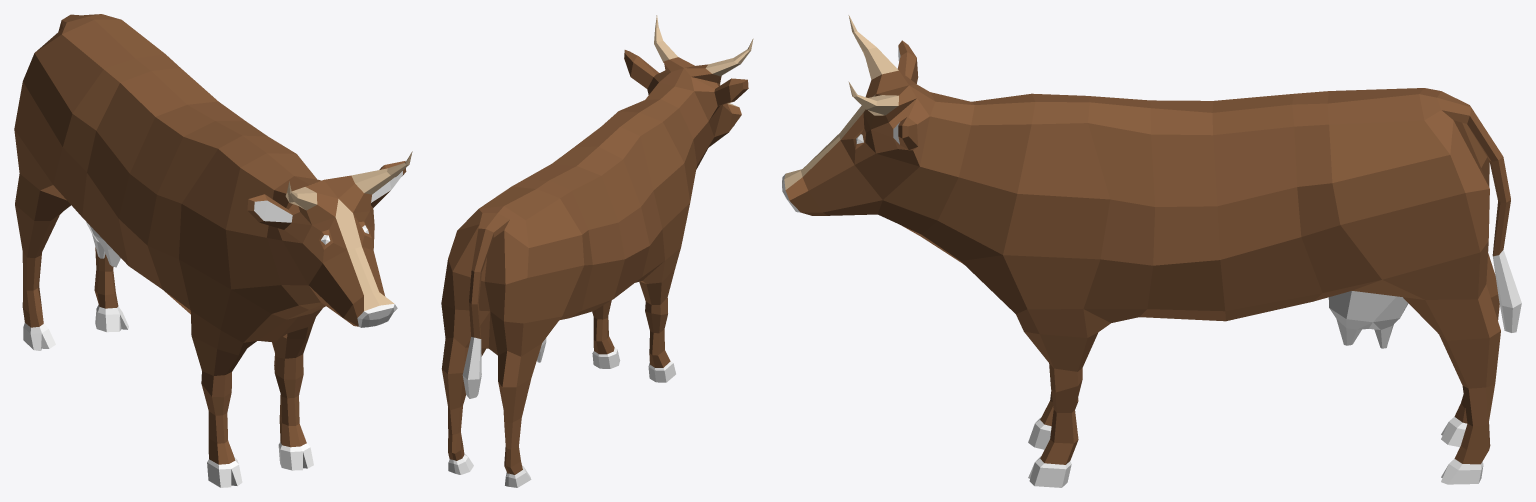
Rendered from cow.glb.
3 views of the same model, side by side, from view 1: azimuth 30°, elevation 25°; view 2: azimuth 150°, elevation 25°; view 3: azimuth 270°, elevation 25° (orthographic). The views are drawn at different scales.
Visible parts, largest first — view 1: cow; view 2: cow; view 3: cow.
Boxes of the visible parts, x1,y1,x2,y2 form: cow: [14, 14, 412, 487]; cow: [441, 15, 753, 487]; cow: [782, 15, 1521, 487].
Size of the model in its own units: 0.8096 by 1.82 by 2.94.
